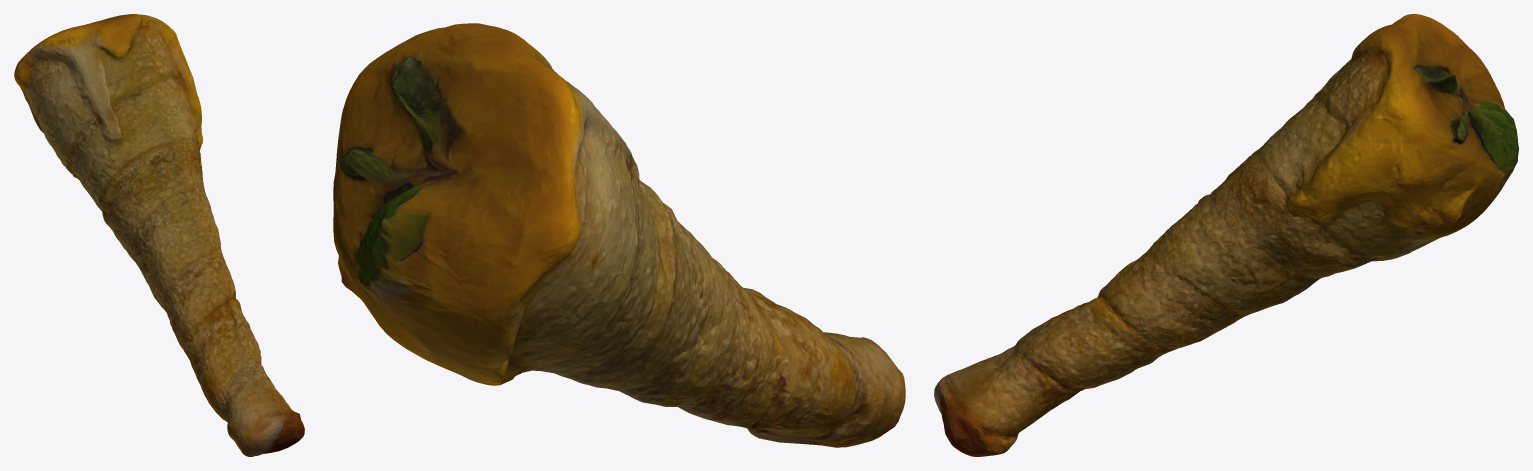
The model's file is konipizza.glb.
3 renders of one model, left to right at view 1: azimuth 30°, elevation 25°; view 2: azimuth 150°, elevation 25°; view 3: azimuth 270°, elevation 25°, orthographic. The views are drawn at different scales.
Parts seen in each view (by area): view 1: Mesh_0; view 2: Mesh_0; view 3: Mesh_0.
Boxes of the visible parts, <box> form: Mesh_0: <box>14,14,304,456</box>; Mesh_0: <box>333,23,905,447</box>; Mesh_0: <box>934,14,1518,456</box>.
Size of the model in its own units: 0.0529 by 0.1146 by 0.1448.
Materials: 1 (1 with a texture image).
